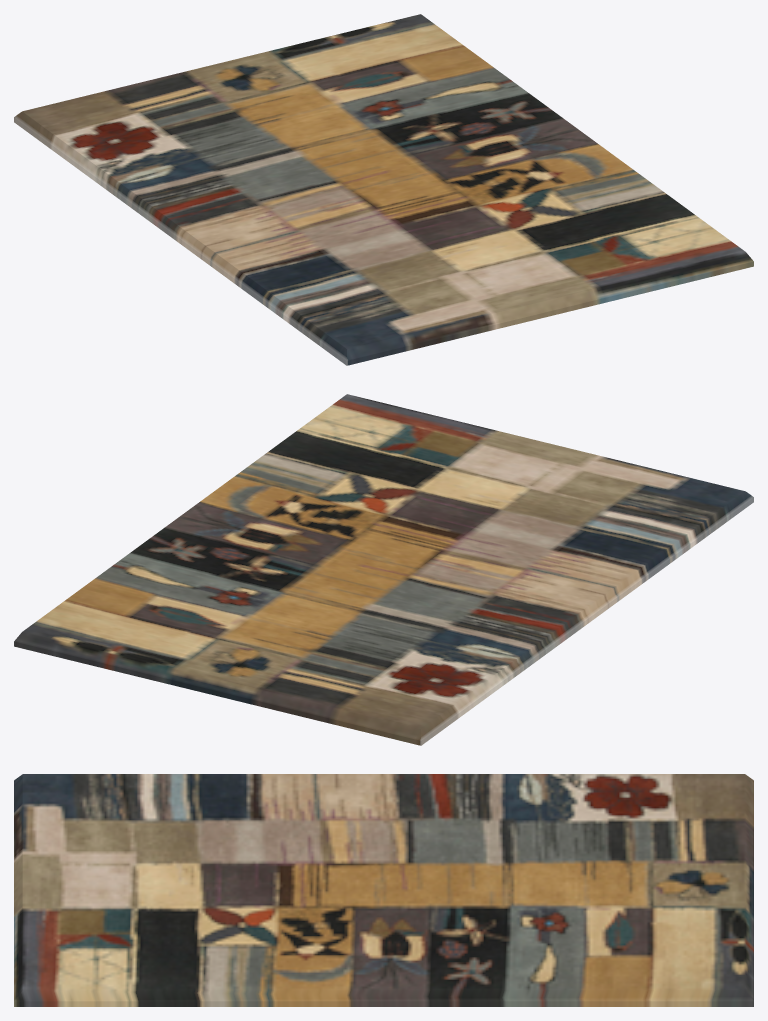
File: carpet.glb
3 renders of one model, top to bottom at view 1: azimuth 30°, elevation 25°; view 2: azimuth 150°, elevation 25°; view 3: azimuth 270°, elevation 25°, orthographic. The views are drawn at different scales.
Parts seen in each view (by area): view 1: carpet; view 2: carpet; view 3: carpet.
Part boxes in pixels (bbox=[...]): carpet: bbox=[14, 14, 753, 365]; carpet: bbox=[14, 394, 753, 745]; carpet: bbox=[14, 774, 753, 1006].
Size of the model in its own units: 2 by 0.0597 by 2.83.
Materials: 1 (1 with a texture image).
